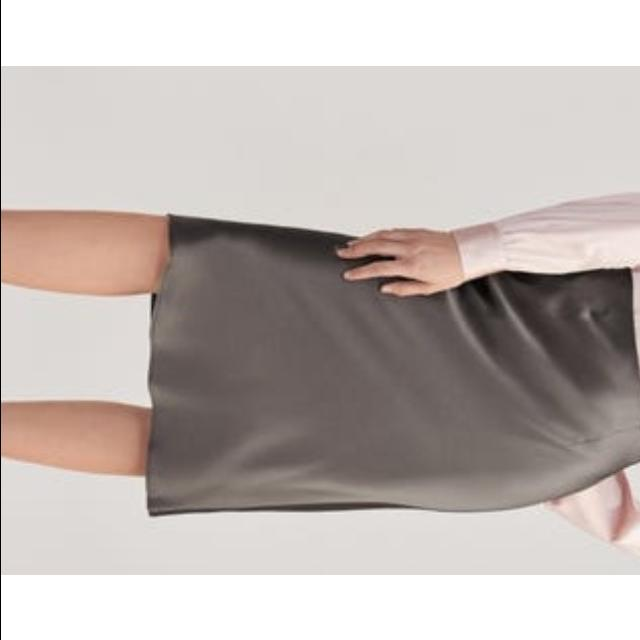silk: (145, 159, 640, 563)
